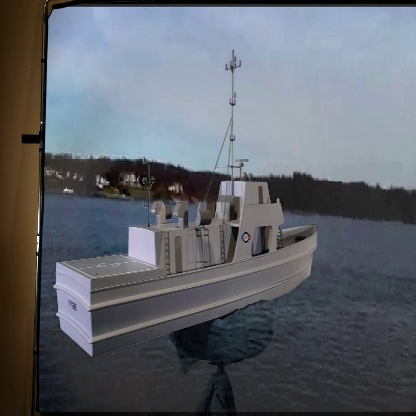YP689: (55, 47, 321, 366)
